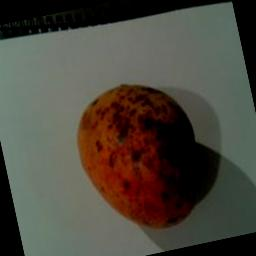Mango Rotten: (60, 66, 218, 240)
